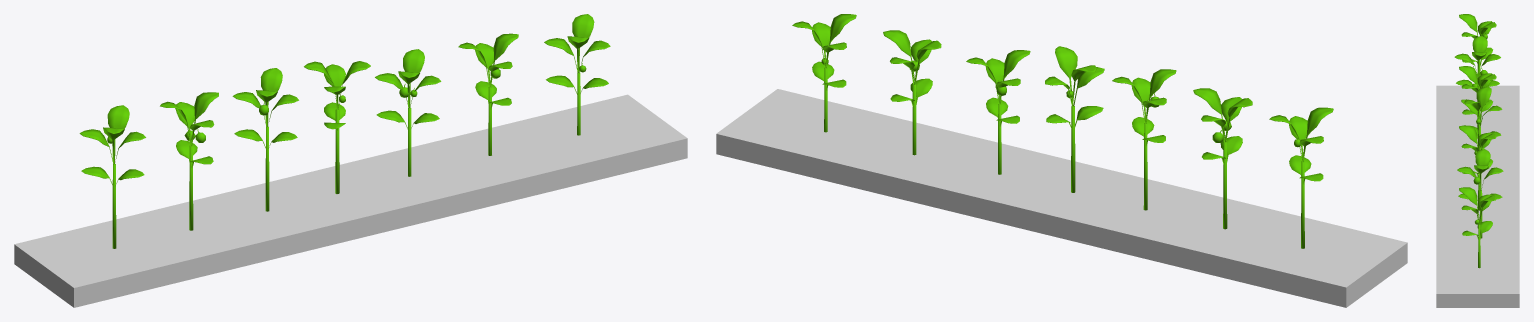
The model's file is Tomatos.FBX.
3 views of the same model, side by side, from view 1: azimuth 30°, elevation 25°; view 2: azimuth 150°, elevation 25°; view 3: azimuth 270°, elevation 25° (orthographic). The views are drawn at different scales.
Parts seen in each view (by area): view 1: Box001, polySurface121, polySurface119, polySurface113, polySurface123, polySurface120, polySurface118, polySurface122; view 2: Box001, polySurface118, polySurface120, polySurface122, polySurface119, polySurface121, polySurface123, polySurface113; view 3: Box001, polySurface123, polySurface120, polySurface122, polySurface119, polySurface118, polySurface121, polySurface113.
Part boxes in pixels (<box>): Box001: <box>14,94,687,307</box>; polySurface121: <box>79,105,145,248</box>; polySurface119: <box>232,68,298,211</box>; polySurface113: <box>375,49,441,176</box>; polySurface123: <box>544,14,610,135</box>; polySurface120: <box>160,92,218,230</box>; polySurface118: <box>304,61,370,193</box>; polySurface122: <box>458,33,518,155</box>; Box001: <box>716,89,1407,307</box>; polySurface118: <box>1045,46,1104,192</box>; polySurface120: <box>1193,88,1252,229</box>; polySurface122: <box>883,30,941,155</box>; polySurface119: <box>1112,69,1176,210</box>; polySurface121: <box>1269,107,1333,248</box>; polySurface123: <box>792,14,856,132</box>; polySurface113: <box>966,50,1030,174</box>; Box001: <box>1436,85,1519,307</box>; polySurface123: <box>1459,187,1496,268</box>; polySurface120: <box>1454,36,1500,129</box>; polySurface122: <box>1457,149,1503,238</box>; polySurface119: <box>1459,66,1496,147</box>; polySurface118: <box>1461,86,1502,148</box>; polySurface121: <box>1459,14,1496,88</box>; polySurface113: <box>1459,125,1496,210</box>.
Bounding box in the file's own units: 11.64 × 2.98 × 1.97.
